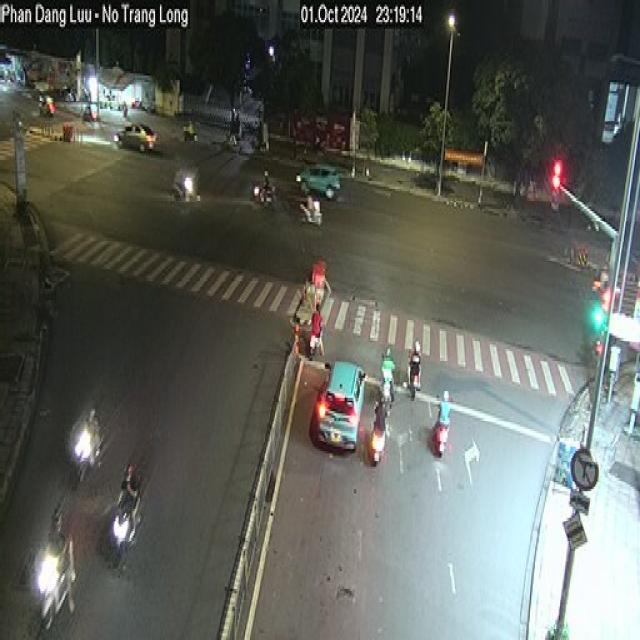car: (309, 356, 366, 454), (295, 162, 340, 200), (112, 120, 156, 153)
